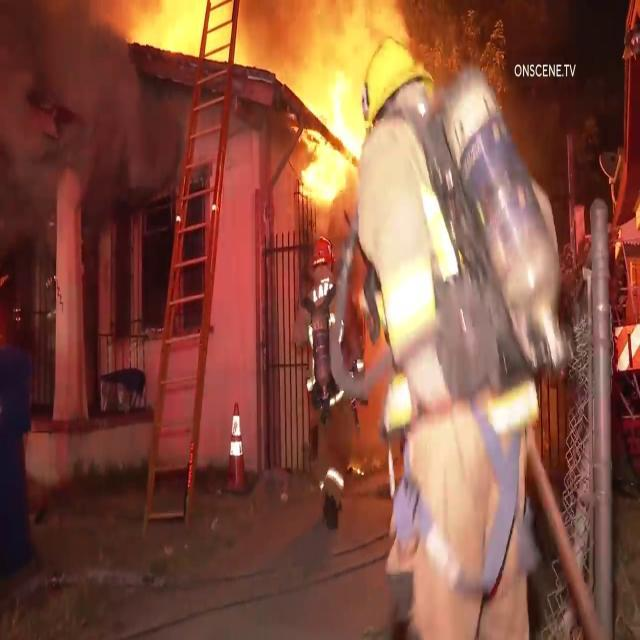Fire: (280, 78, 348, 234)
Smoke: (0, 0, 159, 188)
